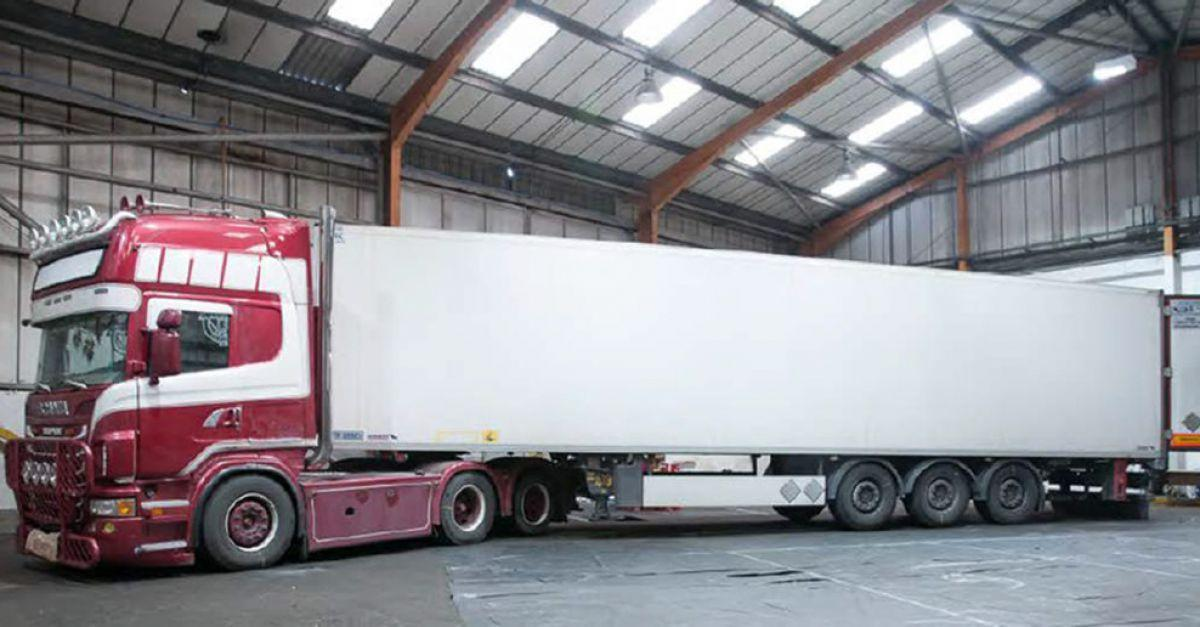truck: (2, 195, 1168, 580)
